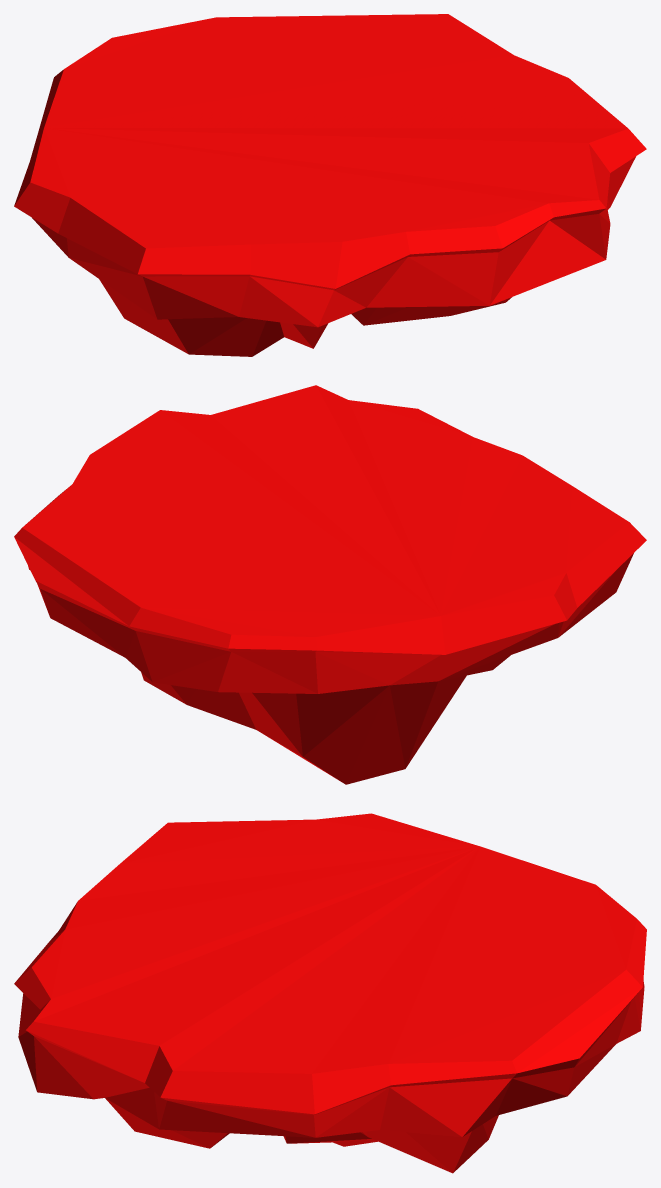
The model's file is SM_Platform_02.fbx.
The picture shows the model from 3 angles, top to bottom: view 1: azimuth 30°, elevation 25°; view 2: azimuth 150°, elevation 25°; view 3: azimuth 270°, elevation 25°; orthographic projection. The views are drawn at different scales.
Visible parts, largest first — view 1: SM_Platform_02; view 2: SM_Platform_02; view 3: SM_Platform_02.
Part boxes in pixels (x1,y1,x2,y2): SM_Platform_02: [14, 14, 646, 356]; SM_Platform_02: [14, 385, 646, 784]; SM_Platform_02: [14, 813, 646, 1173].
Size of the model in its own units: 498 by 482 by 192.
